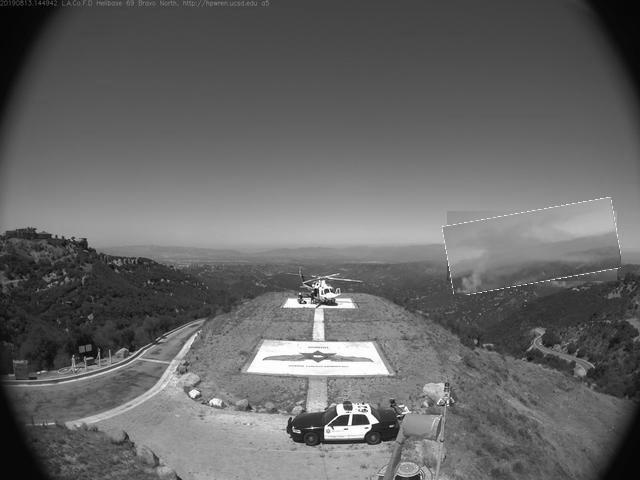smoke: (446, 205, 621, 290)
